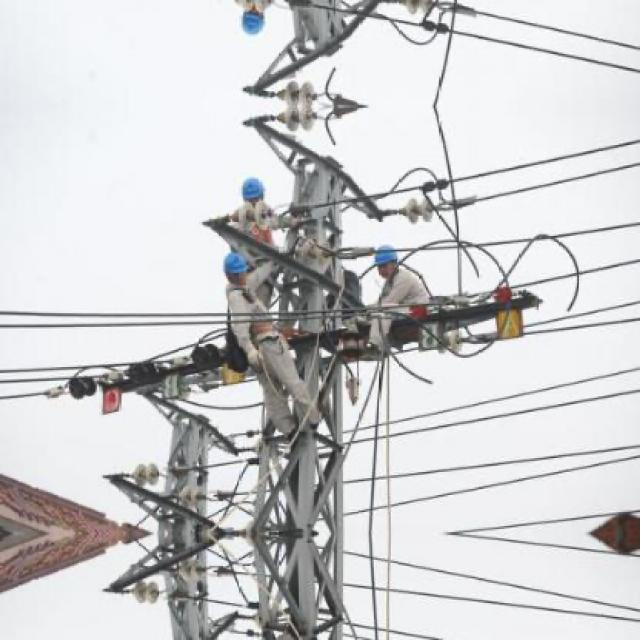helmet: (370, 242, 408, 278), (223, 251, 251, 287), (242, 174, 266, 212), (242, 1, 266, 38)
